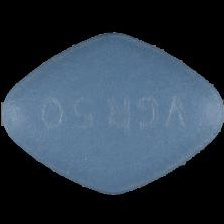54868-4084: (0, 0, 224, 224)
